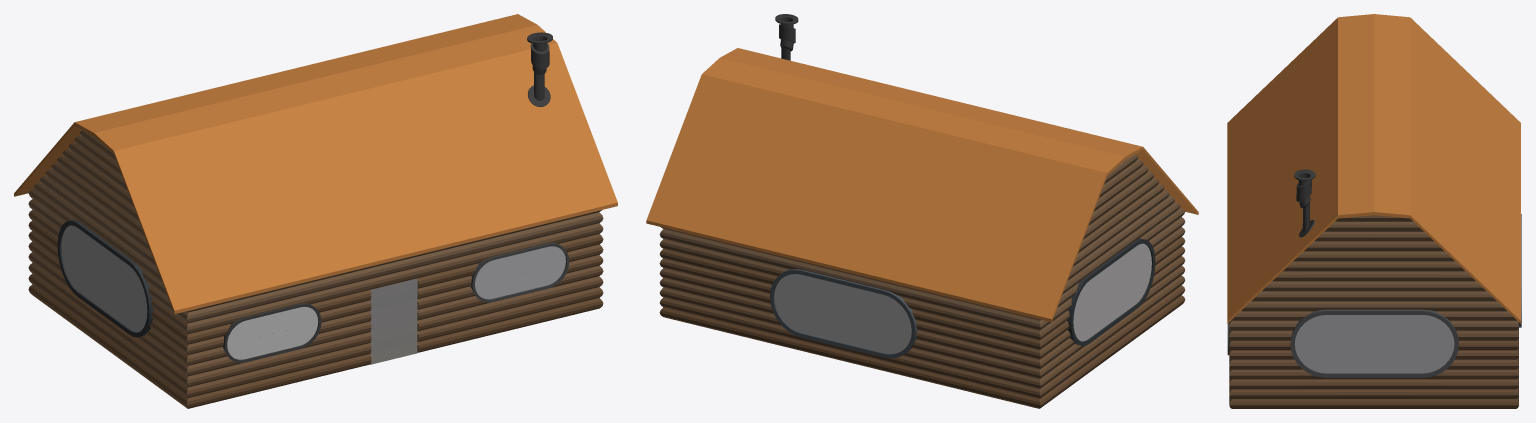
The model's file is Mo_ForestVillageHouse01.fbx.
3 views of the same model, side by side, from view 1: azimuth 30°, elevation 25°; view 2: azimuth 150°, elevation 25°; view 3: azimuth 270°, elevation 25° (orthographic). The views are drawn at different scales.
Visible parts, largest first — view 1: Cube; view 2: Cube; view 3: Cube.
Boxes of the visible parts, box(x1,y1,x2,y2) form: Cube: box(14, 14, 617, 408); Cube: box(646, 14, 1198, 408); Cube: box(1227, 14, 1521, 408).
Bounding box in the file's own units: 4268 × 2271 × 2681.
